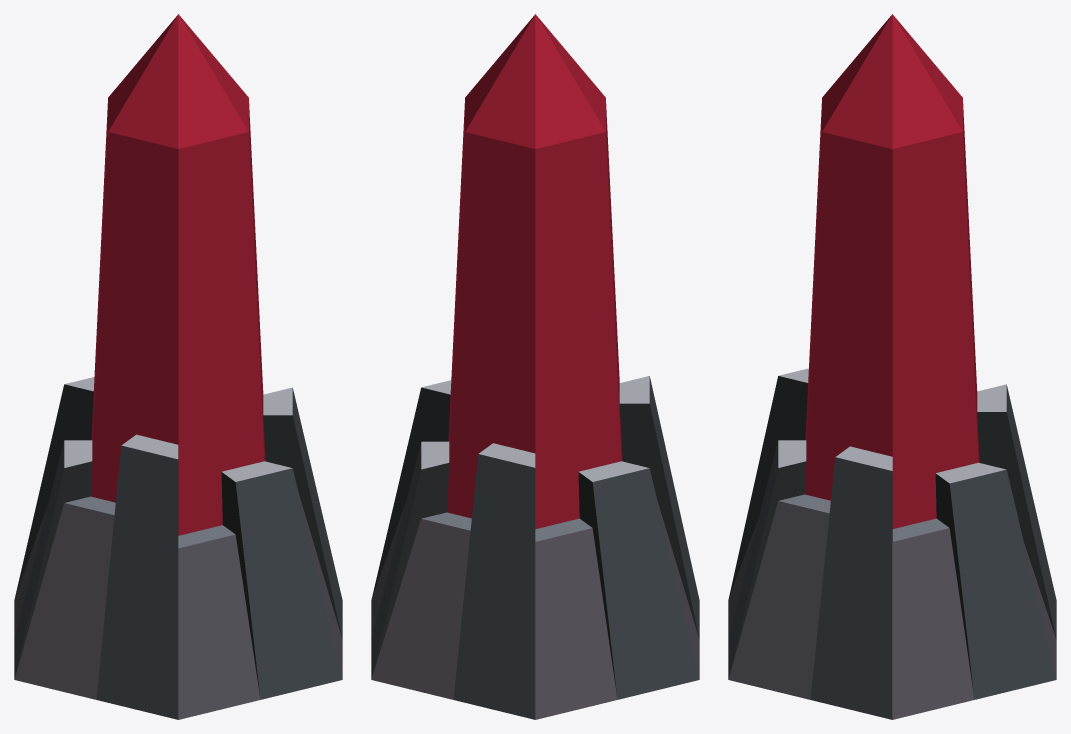
Rendered from TB_Str_Crystal_A.FBX.
The picture shows the model from 3 angles, left to right: view 1: azimuth 30°, elevation 25°; view 2: azimuth 150°, elevation 25°; view 3: azimuth 270°, elevation 25°; orthographic projection.
Visible parts, largest first — view 1: TB_Str_Crystal_A; view 2: TB_Str_Crystal_A; view 3: TB_Str_Crystal_A.
Part boxes in pixels (left/top/right/bottom): TB_Str_Crystal_A: left=14, top=14, right=342, bottom=719; TB_Str_Crystal_A: left=371, top=14, right=699, bottom=719; TB_Str_Crystal_A: left=728, top=14, right=1056, bottom=719.
Size of the model in its own units: 2.24 by 4.09 by 1.94.
